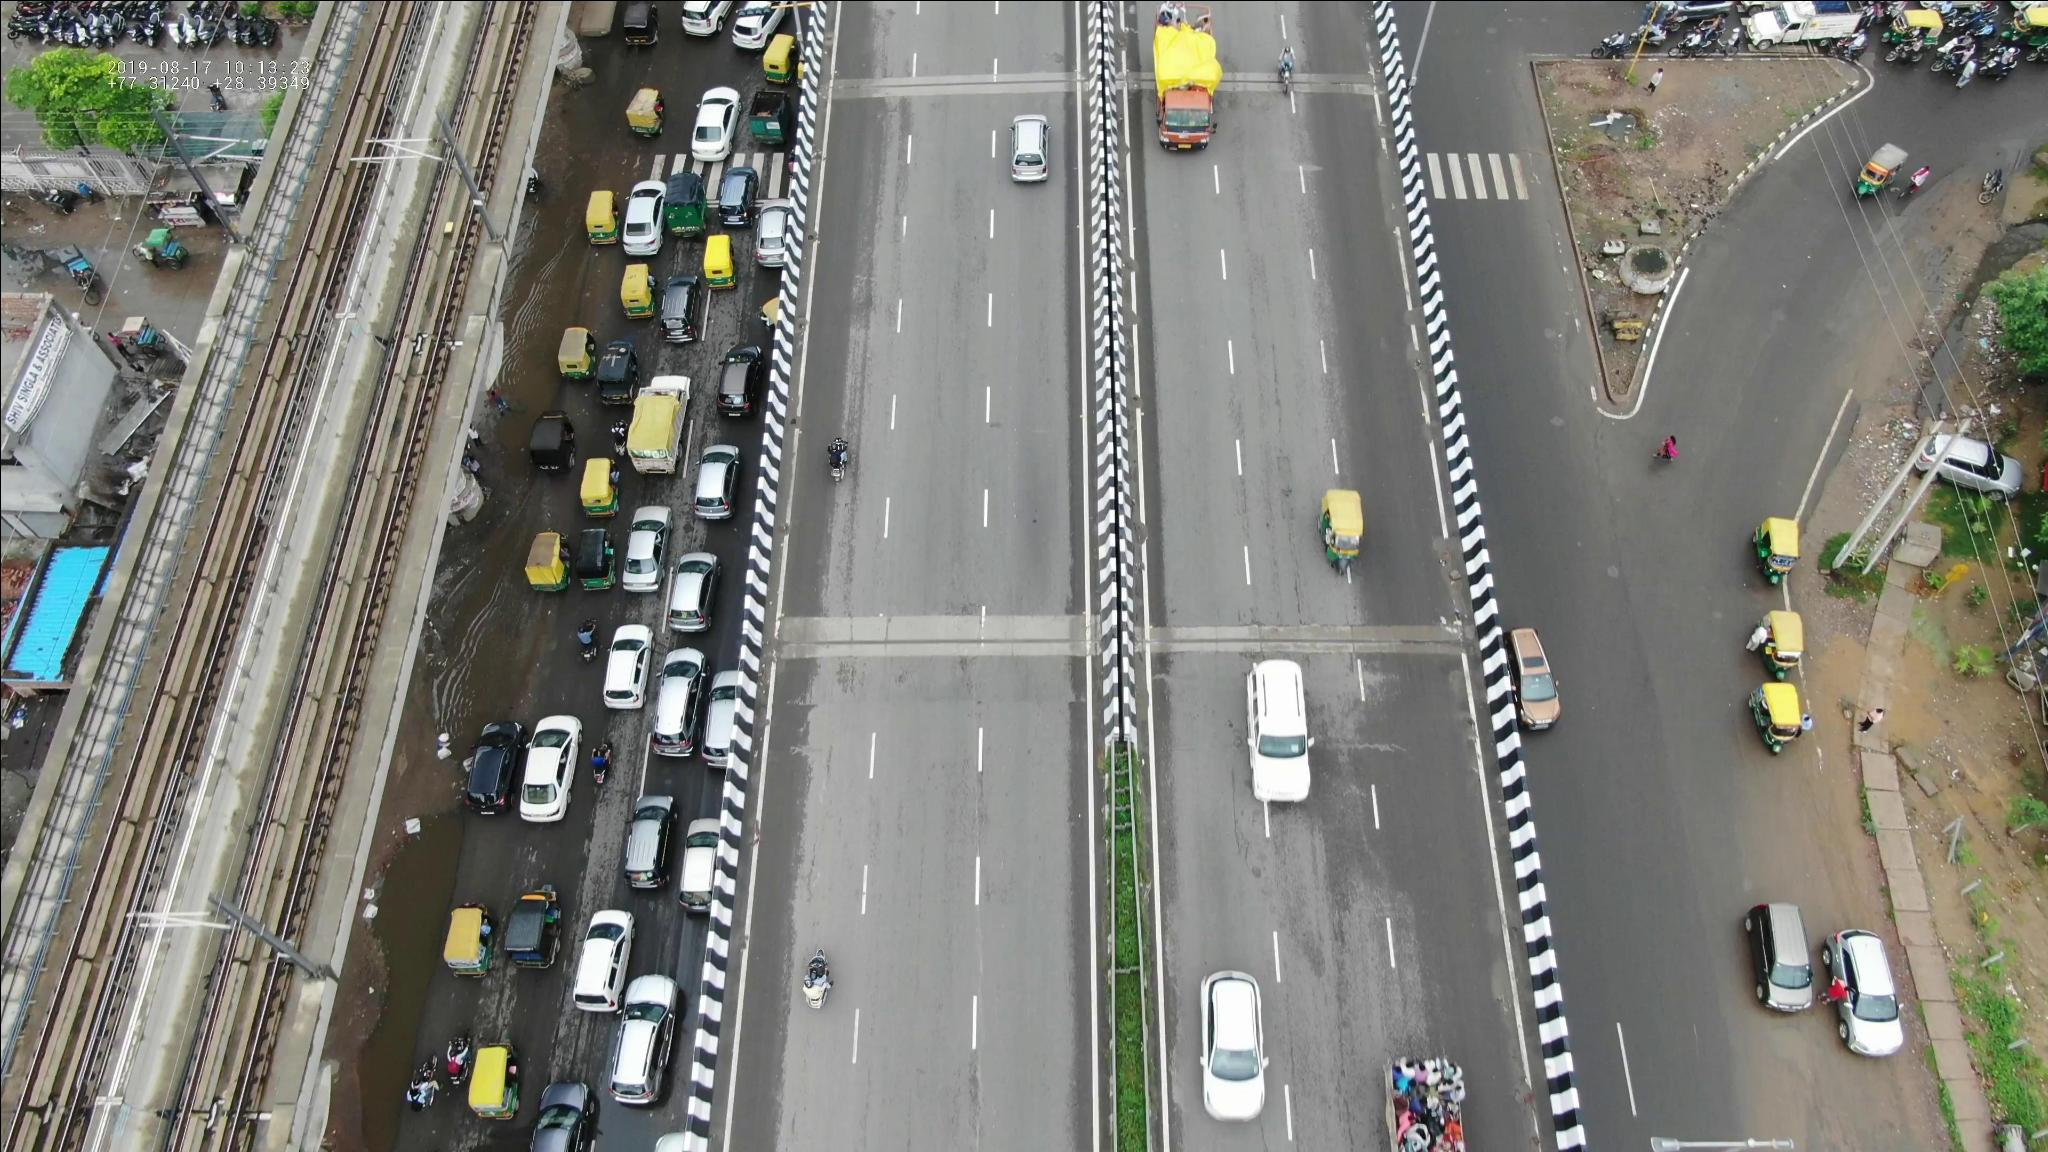Muddy_road: (1753, 778, 1869, 902)
Ravelling: (1252, 391, 1308, 619)
Waterlogging: (345, 812, 473, 1122), (422, 522, 513, 745), (480, 231, 577, 419)
